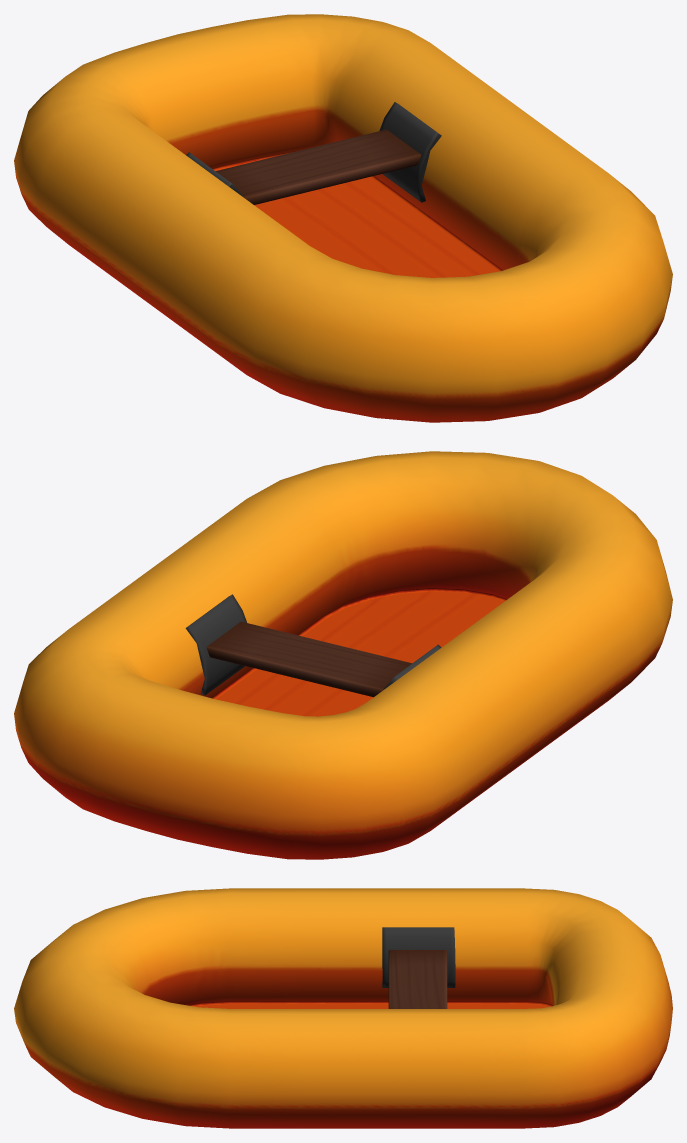
Rendered from Boat2.fbx.
3 views of the same model, one above another, from view 1: azimuth 30°, elevation 25°; view 2: azimuth 150°, elevation 25°; view 3: azimuth 270°, elevation 25° (orthographic). The views are drawn at different scales.
Visible parts, largest first — view 1: RubberRaft_RubberRaft_0.001; view 2: RubberRaft_RubberRaft_0.001; view 3: RubberRaft_RubberRaft_0.001.
Part boxes in pixels (x1,y1,x2,y2): RubberRaft_RubberRaft_0.001: (14, 14, 672, 422); RubberRaft_RubberRaft_0.001: (14, 451, 672, 859); RubberRaft_RubberRaft_0.001: (14, 888, 672, 1128).
Size of the model in its own units: 1.06 by 0.3137 by 1.72.
